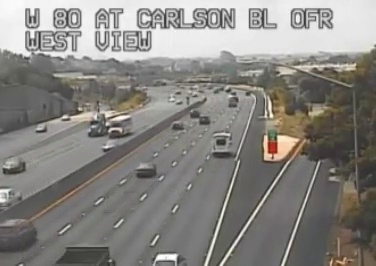bus: (211, 132, 232, 155)
car: (1, 220, 36, 250), (135, 163, 156, 177)
